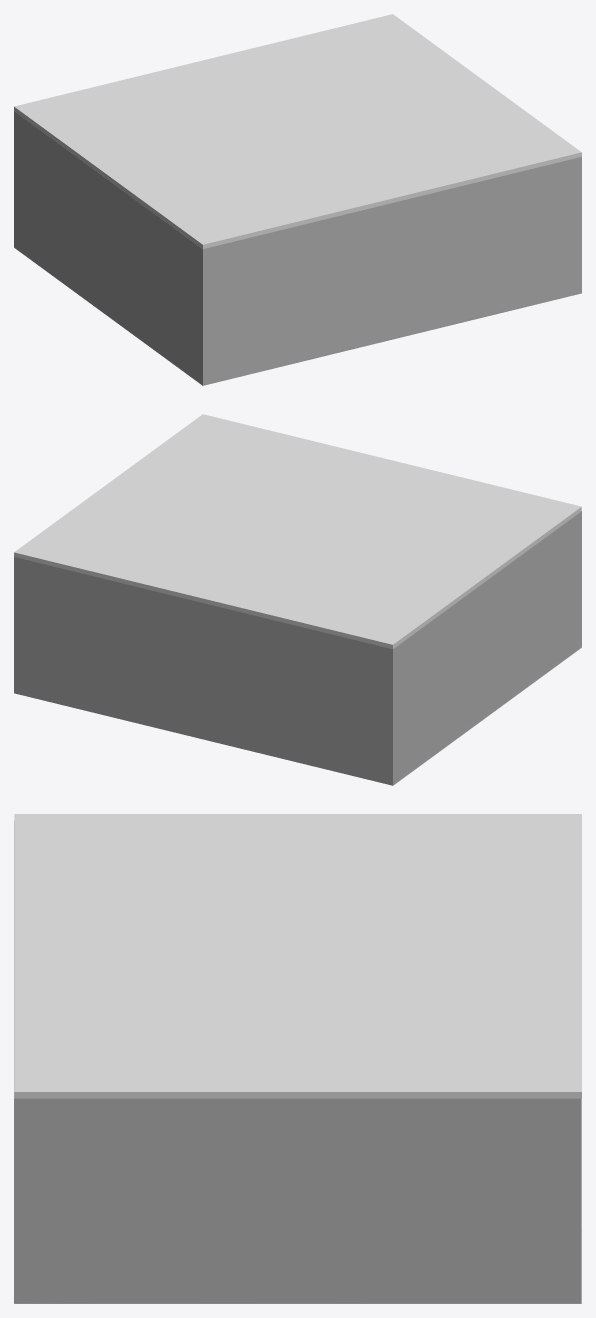
Rendered from room-opt.glb.
3 views of the same model, one above another, from view 1: azimuth 30°, elevation 25°; view 2: azimuth 150°, elevation 25°; view 3: azimuth 270°, elevation 25° (orthographic). The views are drawn at different scales.
Visible parts, largest first — view 1: WallsandFloor, Roof; view 2: WallsandFloor, Roof; view 3: Roof, WallsandFloor.
Boxes of the visible parts, x1,y1,x2,y2 form: WallsandFloor: (14,111,581,385); Roof: (14,14,581,248); WallsandFloor: (14,511,581,785); Roof: (14,414,581,648); Roof: (14,814,581,1098); WallsandFloor: (14,821,581,1303).
Size of the model in its own units: 8.57 by 3.05 by 7.4.
Materials: 19 (19 with a texture image).
